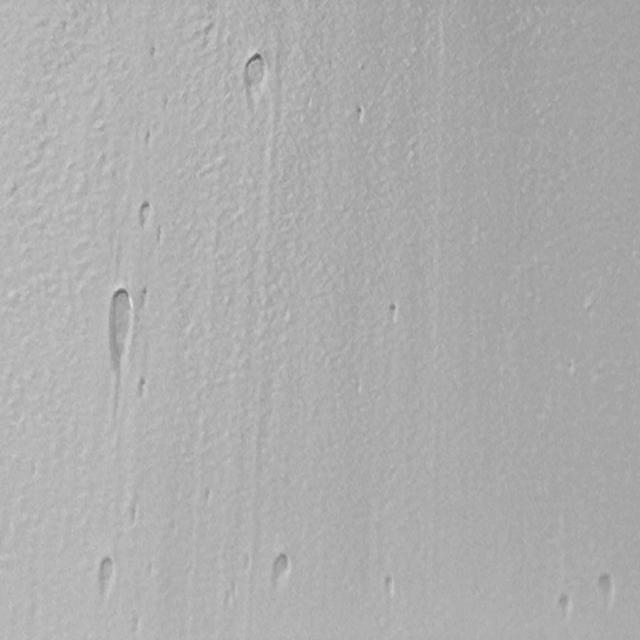pin holes: (105, 284, 134, 418), (241, 52, 270, 98), (95, 558, 119, 597), (595, 572, 619, 606), (270, 552, 292, 585), (554, 592, 575, 624), (136, 200, 156, 230), (380, 573, 400, 602), (384, 300, 404, 326), (136, 376, 152, 402), (138, 283, 154, 309), (352, 106, 366, 124), (143, 127, 156, 146), (144, 42, 156, 59)
